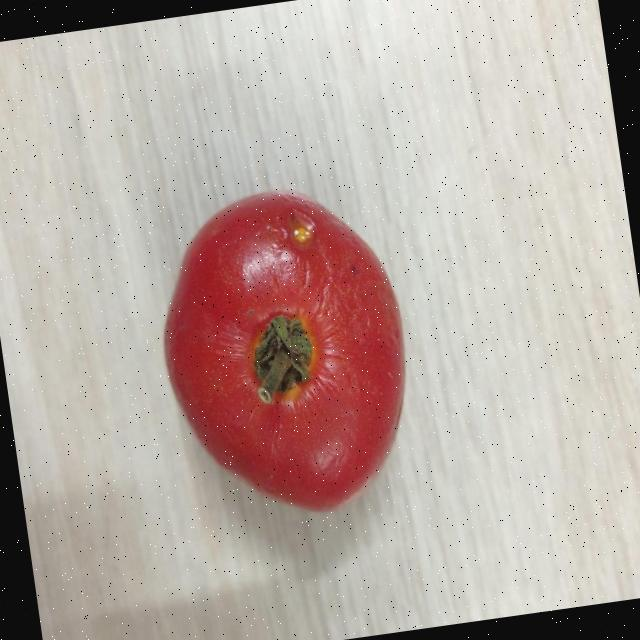Rotten: (146, 180, 429, 526)
